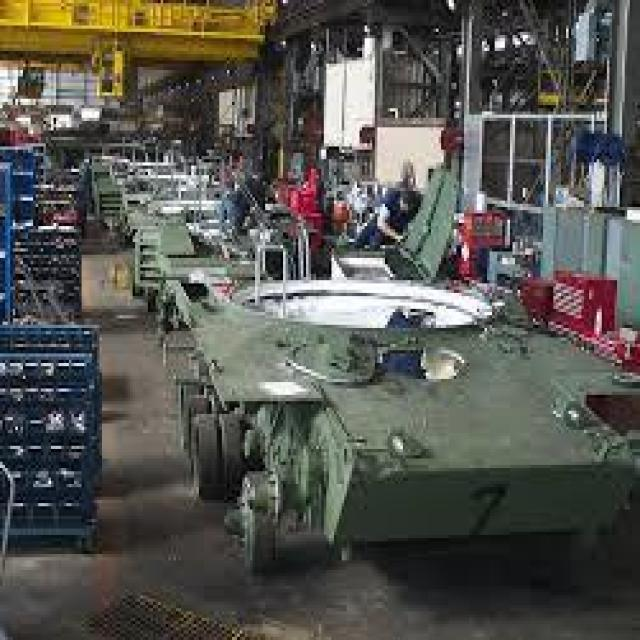MIL_MBT: (166, 248, 632, 576)
